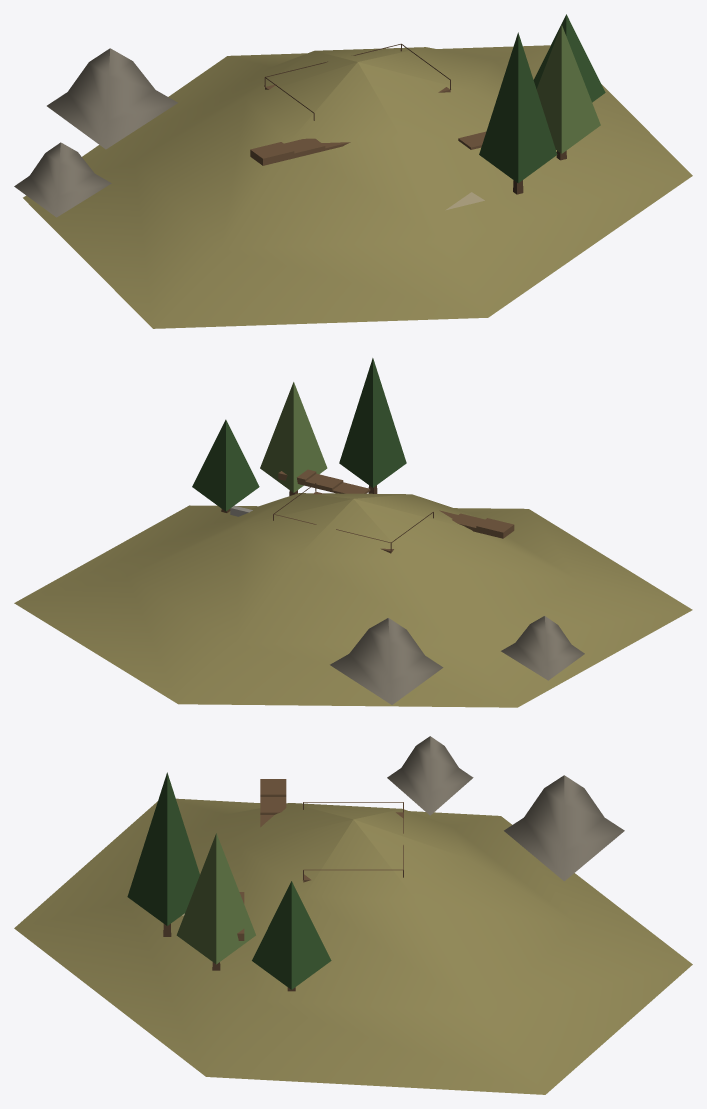
The model's file is mobile-low.glb.
The picture shows the model from 3 angles, top to bottom: view 1: azimuth 30°, elevation 25°; view 2: azimuth 150°, elevation 25°; view 3: azimuth 270°, elevation 25°; orthographic projection. The views are drawn at different scales.
Visible parts, largest first — view 1: lm.lands-end-lookout; view 2: lm.lands-end-lookout; view 3: lm.lands-end-lookout.
Boxes of the visible parts, left/top/right/bottom form: lm.lands-end-lookout: left=14, top=14, right=692, bottom=328; lm.lands-end-lookout: left=14, top=358, right=692, bottom=707; lm.lands-end-lookout: left=14, top=736, right=692, bottom=1094.
Size of the model in its own units: 70.21 by 23 by 67.82.
